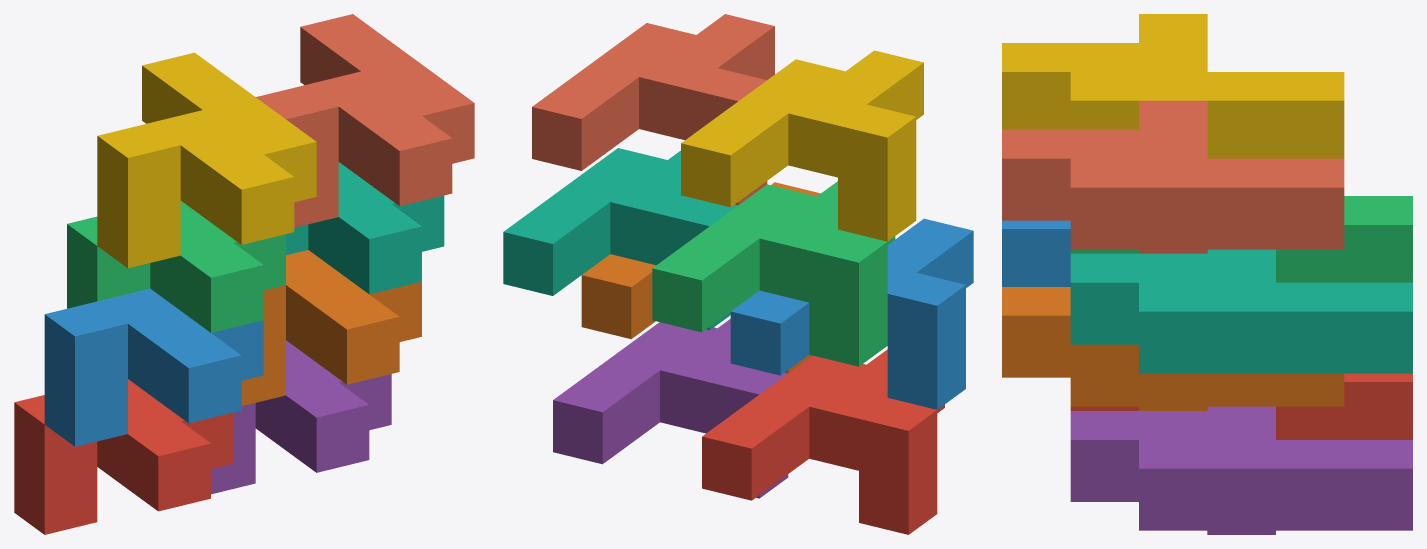
Rendered from tiling.obj.
3 views of the same model, side by side, from view 1: azimuth 30°, elevation 25°; view 2: azimuth 150°, elevation 25°; view 3: azimuth 270°, elevation 25° (orthographic). The views are drawn at different scales.
Parts seen in each view (by area): view 1: copy_1_domain_4, copy_1_domain_8, copy_1_domain_2, copy_1_domain_1, copy_1_domain_6, copy_1_domain_3, copy_1_domain_5, copy_1_domain_7; view 2: copy_1_domain_4, copy_1_domain_3, copy_1_domain_1, copy_1_domain_8, copy_1_domain_2, copy_1_domain_7, copy_1_domain_5, copy_1_domain_6; view 3: copy_1_domain_8, copy_1_domain_5, copy_1_domain_7, copy_1_domain_4, copy_1_domain_6, copy_1_domain_3, copy_1_domain_1, copy_1_domain_2.
Part boxes in pixels (x1=…): copy_1_domain_4: x1=97, y1=52, x2=316, y2=268; copy_1_domain_8: x1=256, y1=14, x2=474, y2=227; copy_1_domain_2: x1=44, y1=288, x2=263, y2=446; copy_1_domain_1: x1=14, y1=379, x2=233, y2=534; copy_1_domain_6: x1=241, y1=250, x2=421, y2=405; copy_1_domain_3: x1=67, y1=201, x2=285, y2=332; copy_1_domain_5: x1=211, y1=340, x2=391, y2=494; copy_1_domain_7: x1=286, y1=162, x2=444, y2=294; copy_1_domain_4: x1=681, y1=50, x2=923, y2=241; copy_1_domain_3: x1=652, y1=181, x2=895, y2=366; copy_1_domain_1: x1=702, y1=349, x2=944, y2=534; copy_1_domain_8: x1=532, y1=14, x2=774, y2=205; copy_1_domain_2: x1=730, y1=218, x2=973, y2=409; copy_1_domain_7: x1=503, y1=148, x2=737, y2=330; copy_1_domain_5: x1=553, y1=319, x2=788, y2=498; copy_1_domain_6: x1=581, y1=182, x2=820, y2=373; copy_1_domain_8: x1=1002, y1=100, x2=1344, y2=253; copy_1_domain_5: x1=1070, y1=406, x2=1412, y2=534; copy_1_domain_7: x1=1070, y1=249, x2=1412, y2=373; copy_1_domain_4: x1=1002, y1=14, x2=1344, y2=158; copy_1_domain_6: x1=1002, y1=287, x2=1344, y2=410; copy_1_domain_3: x1=1070, y1=196, x2=1412, y2=282; copy_1_domain_1: x1=1070, y1=373, x2=1412, y2=439; copy_1_domain_2: x1=1002, y1=220, x2=1070, y2=286.
Size of the model in its own units: 7 by 7 by 6.
